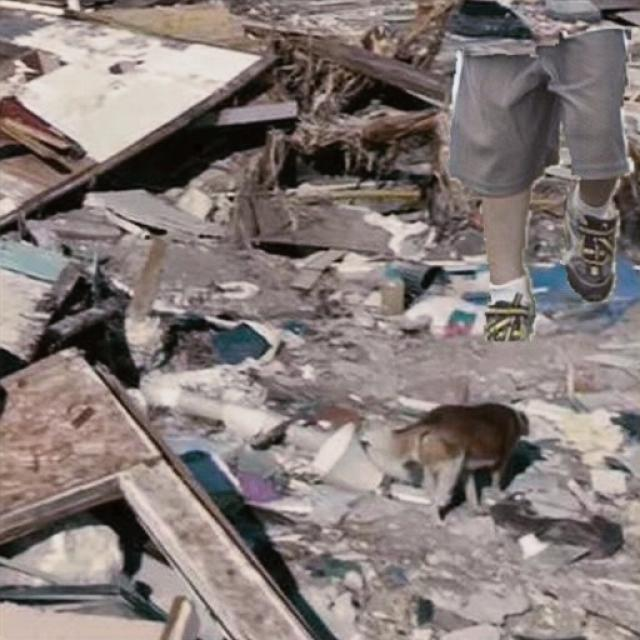Person in Rubble: (447, 29, 632, 340)
